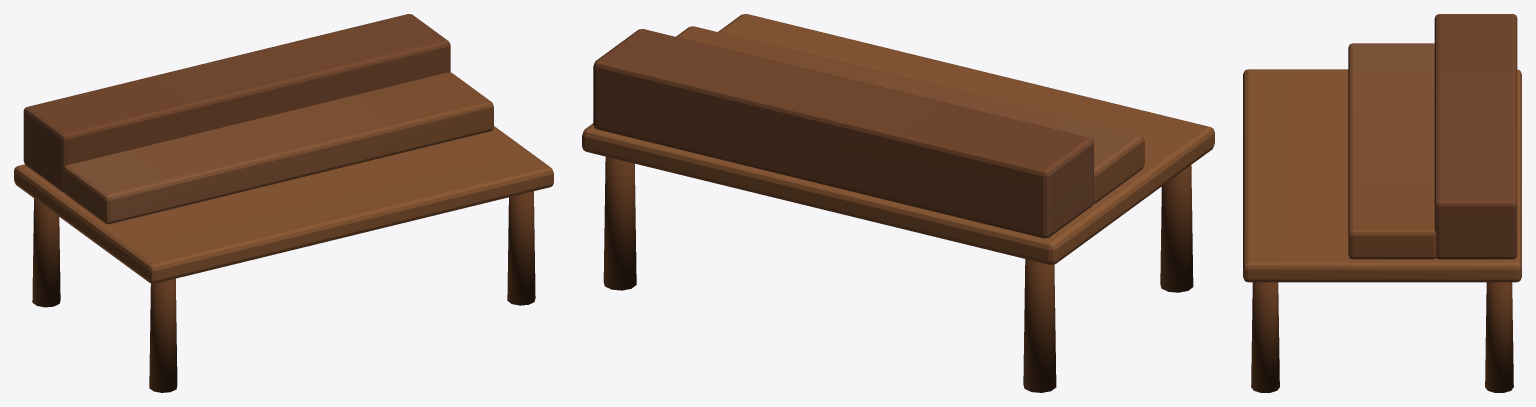
Rendered from table.glb.
3 views of the same model, side by side, from view 1: azimuth 30°, elevation 25°; view 2: azimuth 150°, elevation 25°; view 3: azimuth 270°, elevation 25° (orthographic). The views are drawn at different scales.
Visible parts, largest first — view 1: table; view 2: table; view 3: table.
Part boxes in pixels (x1,y1,x2,y2): table: (14, 14, 553, 392); table: (582, 14, 1214, 392); table: (1243, 14, 1521, 392).
Size of the model in its own units: 2.6 by 1.18 by 1.55.
